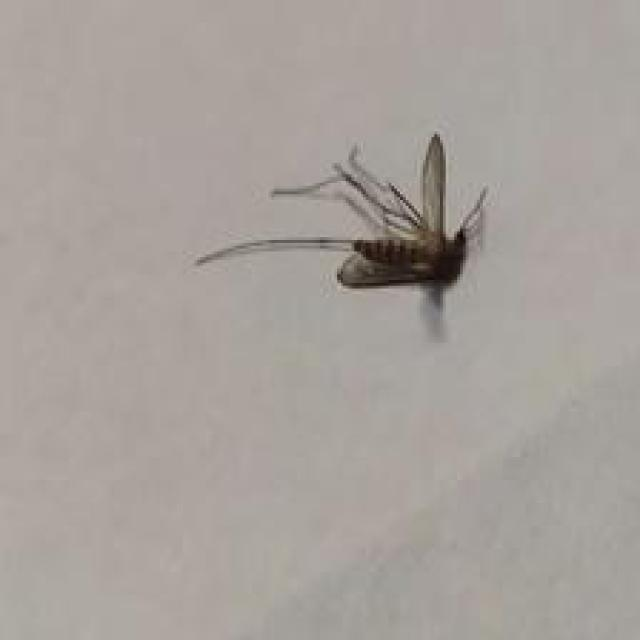Culex: (193, 130, 490, 333)
